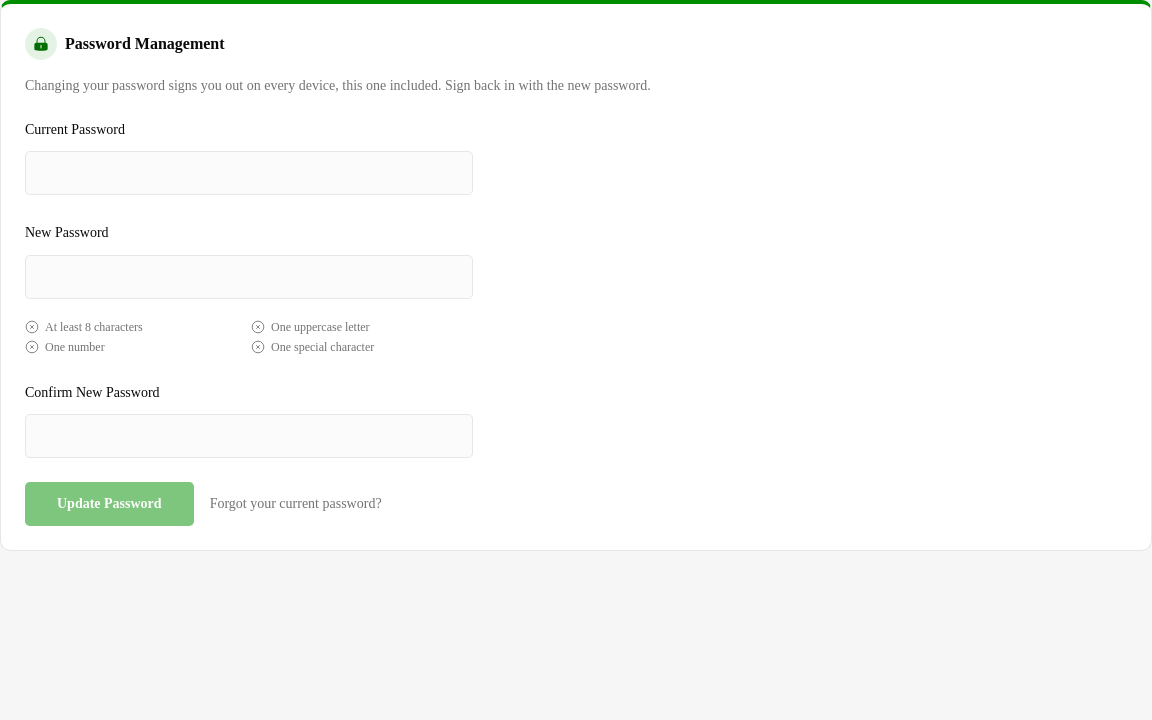
Test case: changing the password › keeps submit disabled until the new password passes every rule and matches
In the password field labelled "Current Password": x=249, y=173 [25,151,473,195], type "Old#Pass1"
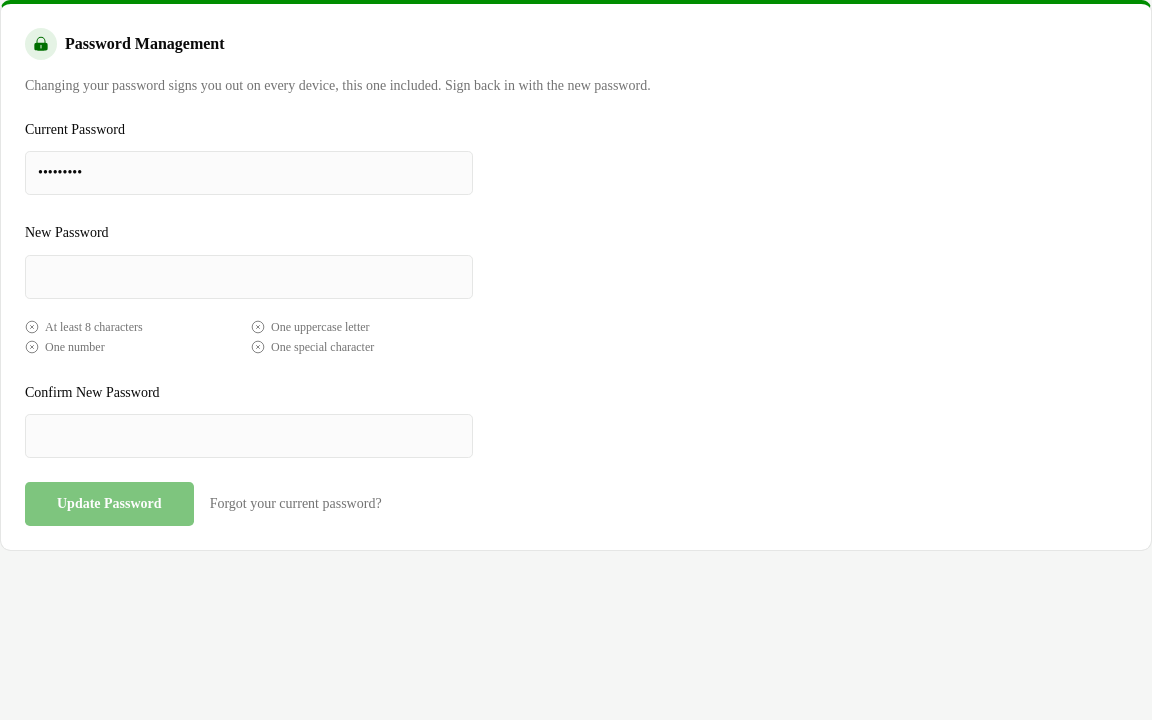
In the password field labelled "New Password": x=249, y=276 [25,254,473,298], type "weakpass"
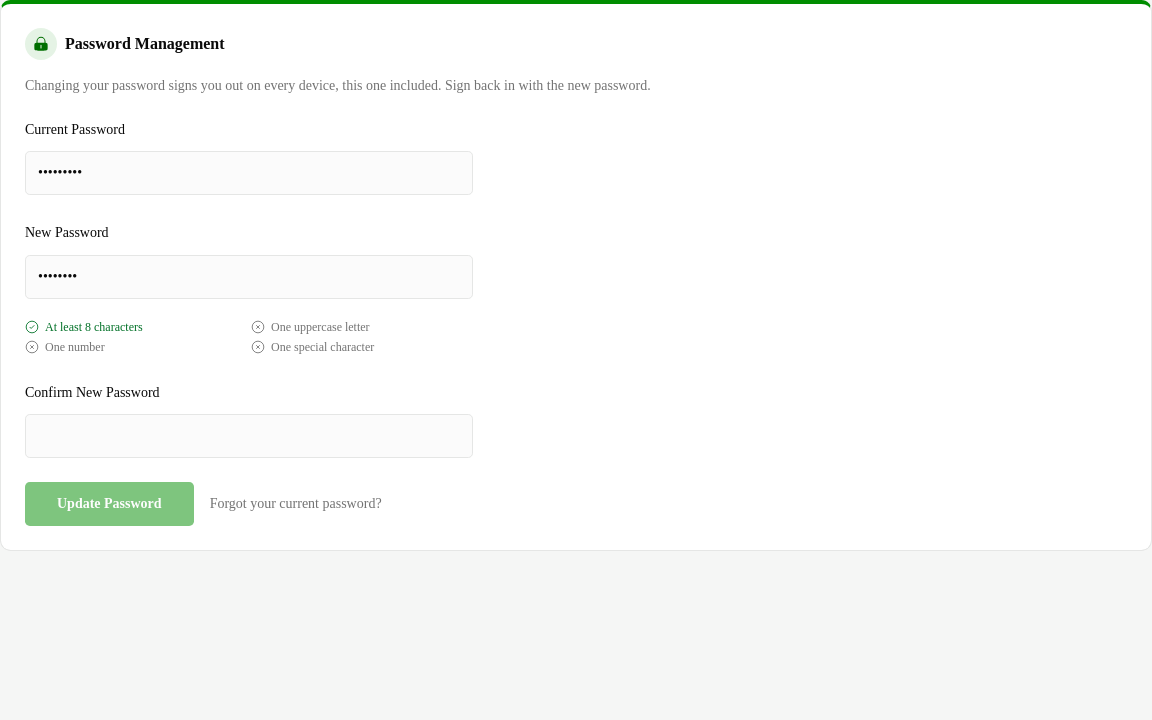
In the password field labelled "Confirm New Password": x=249, y=436 [25,414,473,458], type "weakpass"
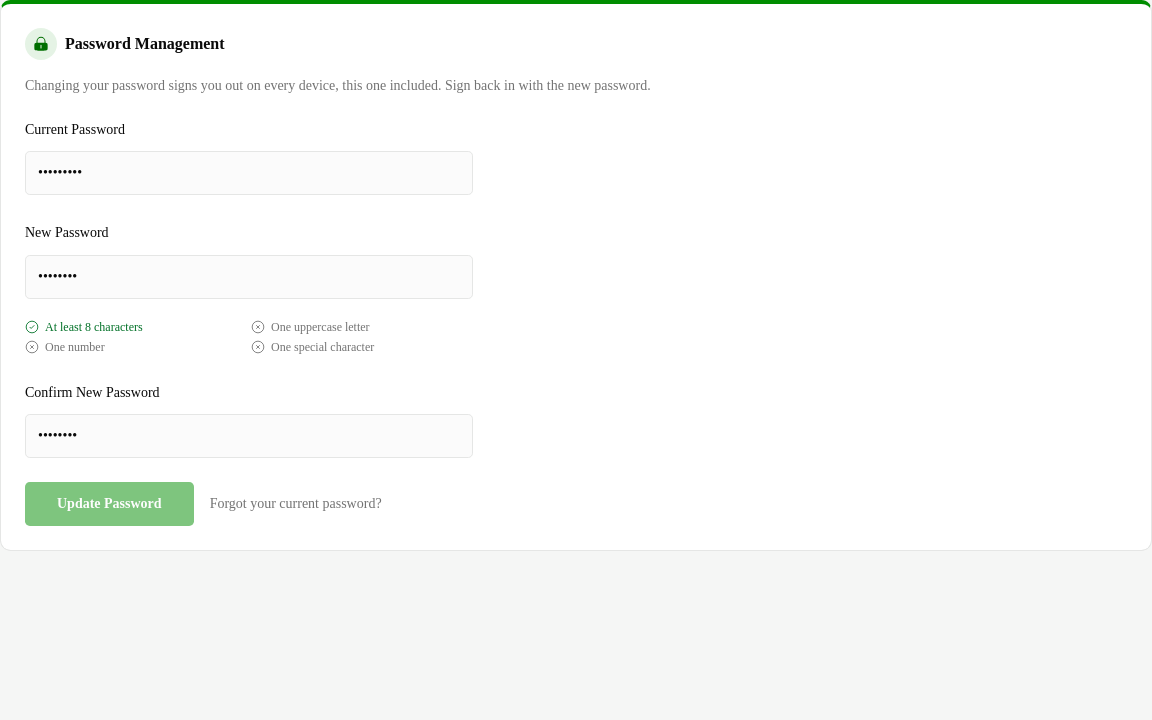
Check: the button "Update Password" is disabled, box [25,482,194,526]
In the password field labelled "New Password": x=249, y=276 [25,254,473,298], type "Blessing#2026"
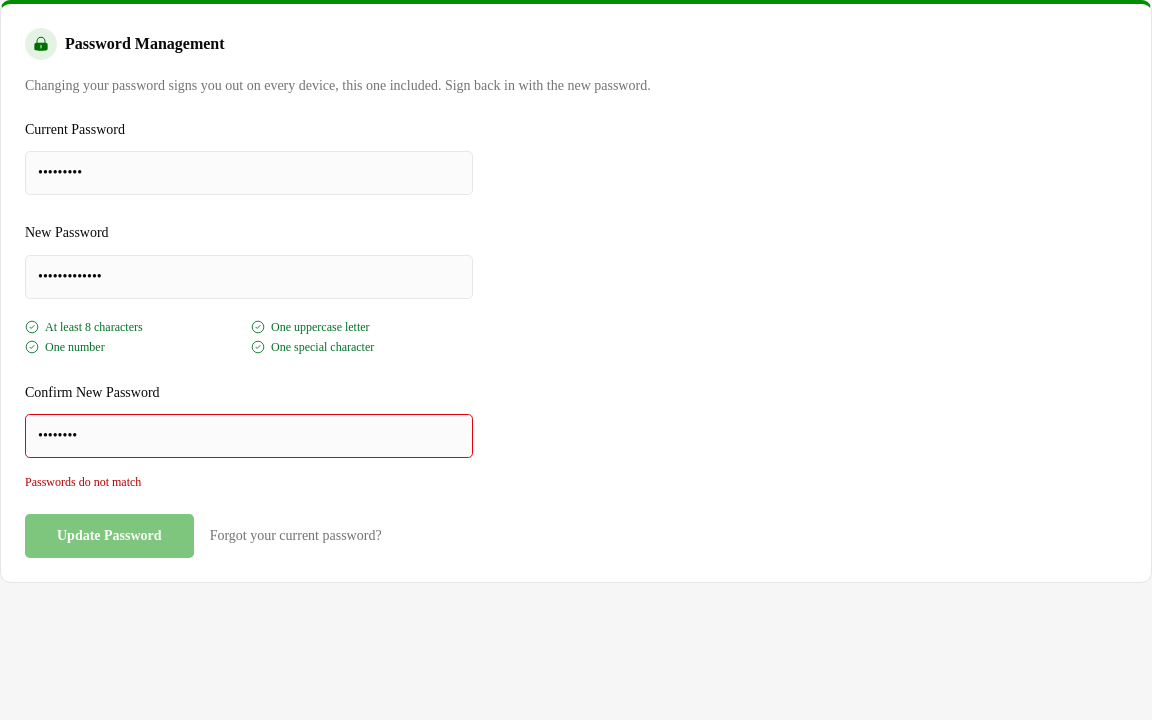
Check: the button "Update Password" is disabled, box [25,514,194,558]
In the password field labelled "Confirm New Password": x=249, y=436 [25,414,473,458], type "Blessing#2026"
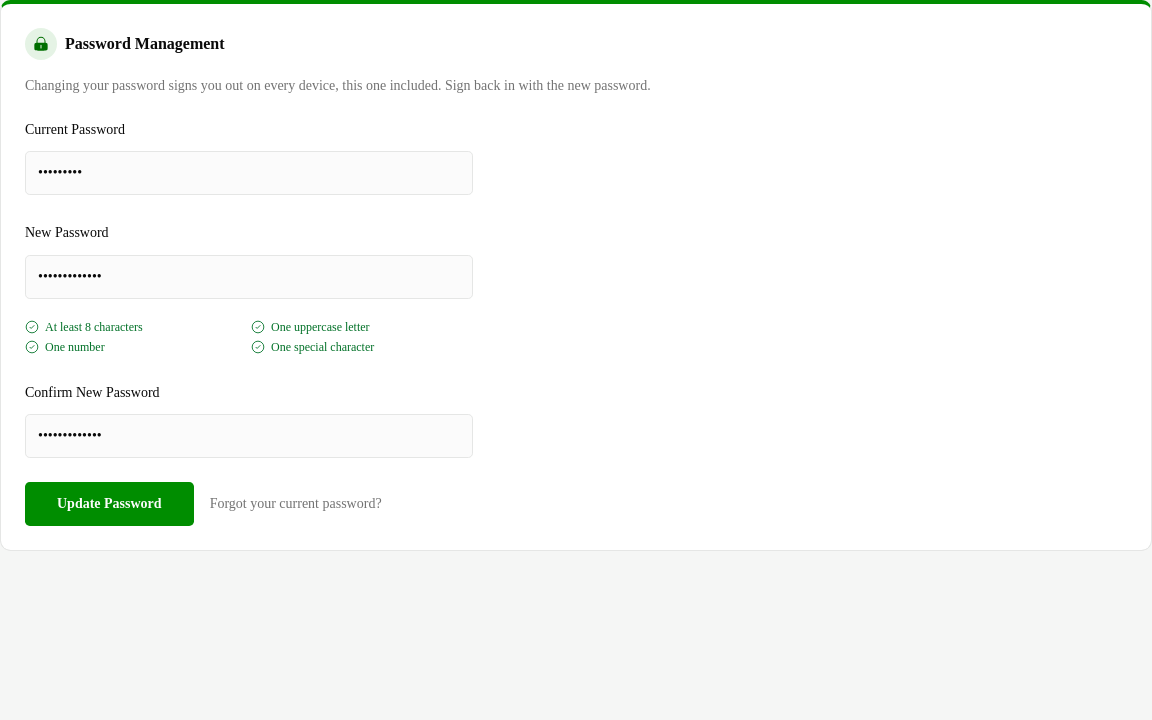
Check: the button "Update Password" is enabled, box [25,482,194,526]
